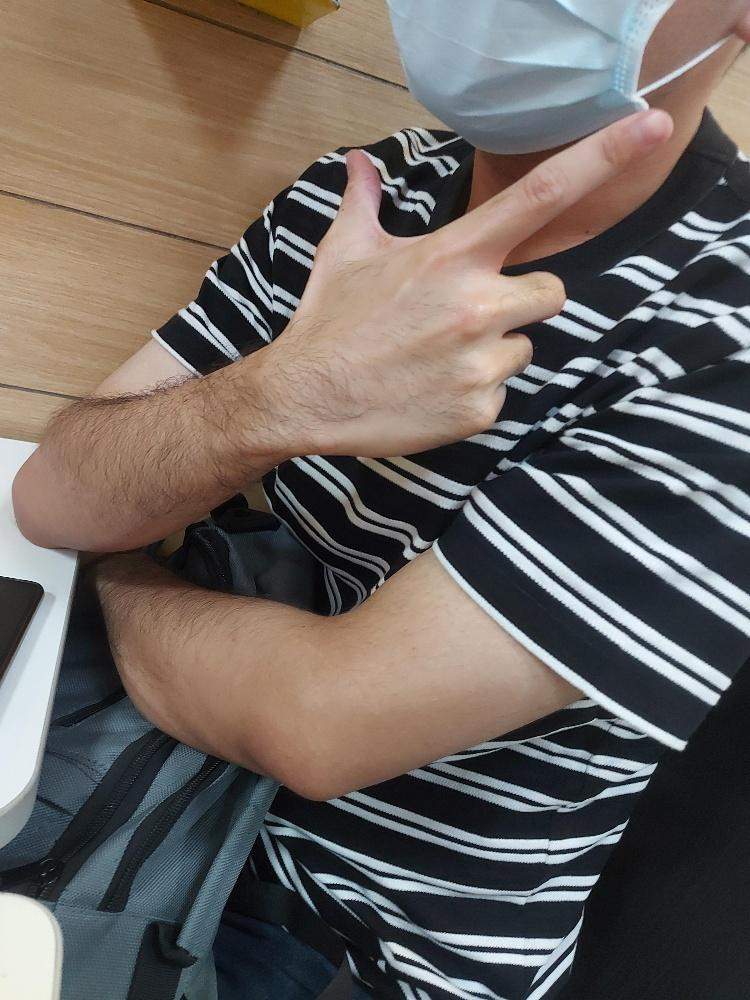g: (280, 105, 673, 459)
